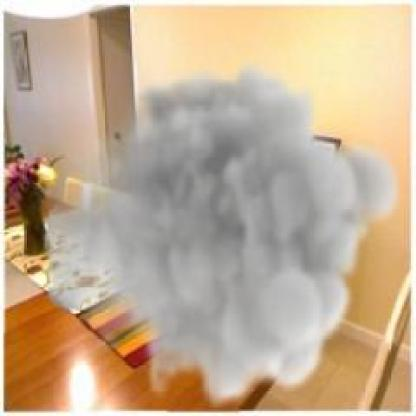Smoke: (41, 59, 404, 411)
